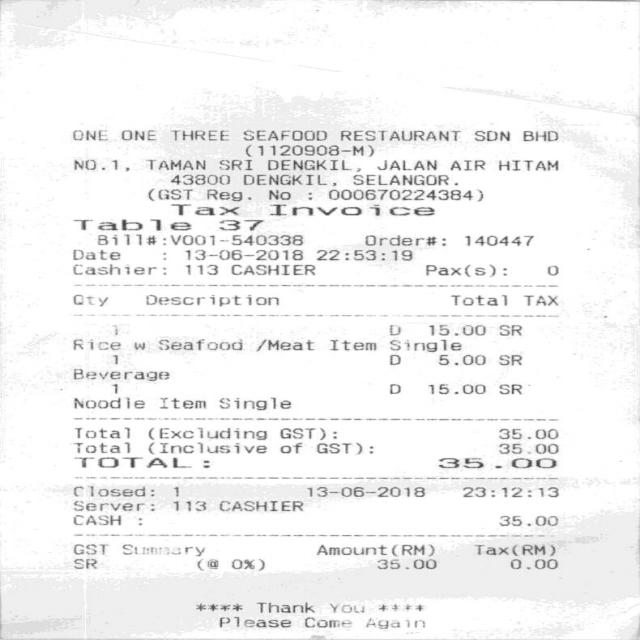text: (96, 233, 302, 246), (269, 203, 433, 216), (327, 189, 482, 201), (135, 294, 282, 306), (244, 144, 373, 156), (147, 442, 266, 454), (148, 428, 266, 440), (316, 544, 433, 556), (73, 218, 189, 230), (73, 457, 194, 468), (339, 130, 459, 141), (304, 486, 424, 497), (436, 457, 555, 468), (184, 249, 301, 260), (72, 368, 168, 381), (314, 249, 411, 261), (351, 174, 456, 185), (242, 174, 335, 186), (217, 395, 290, 410), (157, 338, 241, 351), (363, 233, 444, 246), (268, 158, 352, 170), (424, 264, 496, 278), (121, 544, 205, 556), (472, 544, 554, 556), (461, 487, 557, 497), (72, 264, 165, 274), (230, 264, 314, 275), (217, 500, 301, 511), (389, 339, 460, 352), (169, 203, 238, 216), (73, 500, 153, 511), (72, 396, 143, 408), (242, 130, 326, 140), (463, 234, 532, 246), (73, 486, 153, 496), (218, 616, 289, 627), (255, 338, 313, 351), (498, 514, 556, 526), (450, 294, 506, 306), (375, 159, 435, 170), (375, 558, 435, 569), (314, 441, 364, 454), (206, 557, 256, 570), (145, 159, 204, 170), (430, 323, 484, 335), (74, 426, 128, 438), (498, 159, 556, 170), (498, 428, 556, 439), (498, 442, 556, 453), (427, 383, 484, 394), (71, 442, 128, 453), (168, 130, 228, 140), (168, 174, 228, 184), (72, 338, 122, 350), (364, 618, 424, 628), (255, 602, 314, 612), (147, 188, 191, 201), (303, 616, 350, 628), (206, 188, 249, 201), (158, 396, 204, 408), (72, 514, 122, 525), (71, 249, 119, 260), (436, 354, 484, 365), (508, 558, 556, 569), (219, 219, 262, 231), (329, 339, 375, 350), (278, 427, 316, 440), (72, 294, 110, 306), (472, 130, 509, 141), (448, 159, 484, 170), (72, 543, 107, 554), (522, 130, 556, 141), (218, 159, 251, 170), (172, 500, 205, 511), (71, 130, 106, 140), (120, 130, 155, 140), (523, 295, 558, 305), (328, 602, 363, 612), (185, 264, 216, 275), (498, 324, 520, 336), (497, 354, 521, 365), (497, 383, 521, 394), (268, 189, 290, 200), (278, 442, 300, 453), (72, 558, 96, 568), (111, 158, 128, 170), (388, 324, 401, 336), (388, 354, 399, 365), (546, 265, 557, 275), (389, 384, 399, 394), (133, 342, 143, 349), (110, 354, 117, 364), (110, 383, 116, 393), (172, 486, 177, 496)
